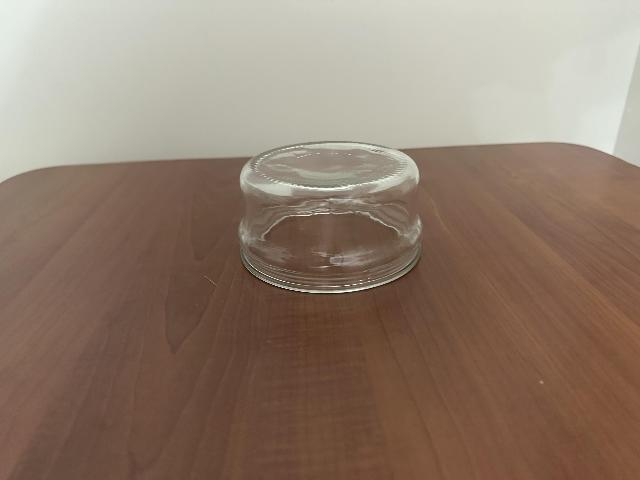Cam: (244, 137, 425, 290)
